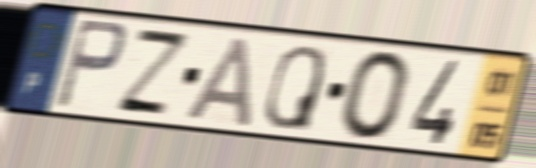4: (407, 58, 465, 147)
A: (181, 33, 254, 130)
O: (337, 47, 414, 144)
P: (51, 15, 130, 113)
Q: (261, 42, 328, 134)
Z: (111, 24, 195, 120)
